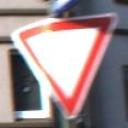preferencia: (12, 12, 117, 117)
